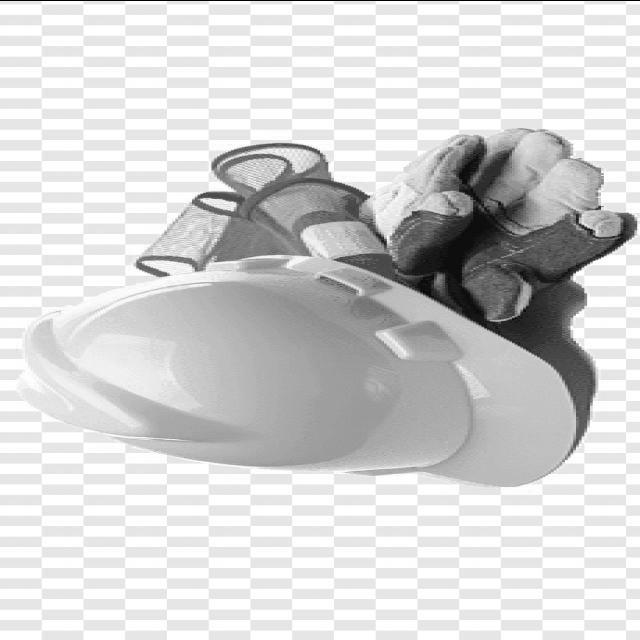construction helmet: (17, 257, 582, 486)
